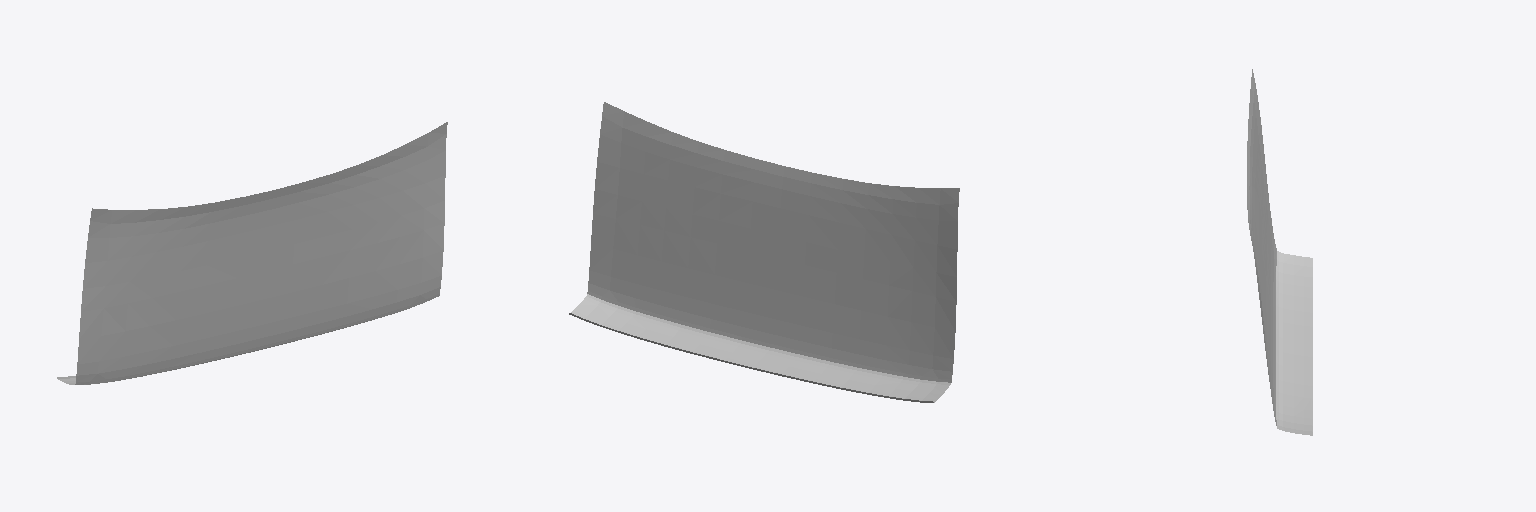
The model's file is trunk.obj.
3 views of the same model, side by side, from view 1: azimuth 30°, elevation 25°; view 2: azimuth 150°, elevation 25°; view 3: azimuth 270°, elevation 25° (orthographic).
Parts seen in each view (by area): view 1: trunk; view 2: trunk; view 3: trunk.
Part boxes in pixels (left/top/right/bottom): trunk: left=57, top=122, right=447, bottom=384; trunk: left=569, top=102, right=959, bottom=402; trunk: left=1247, top=69, right=1312, bottom=435.
Bounding box in the file's own units: 51.1 × 27.07 × 8.05.